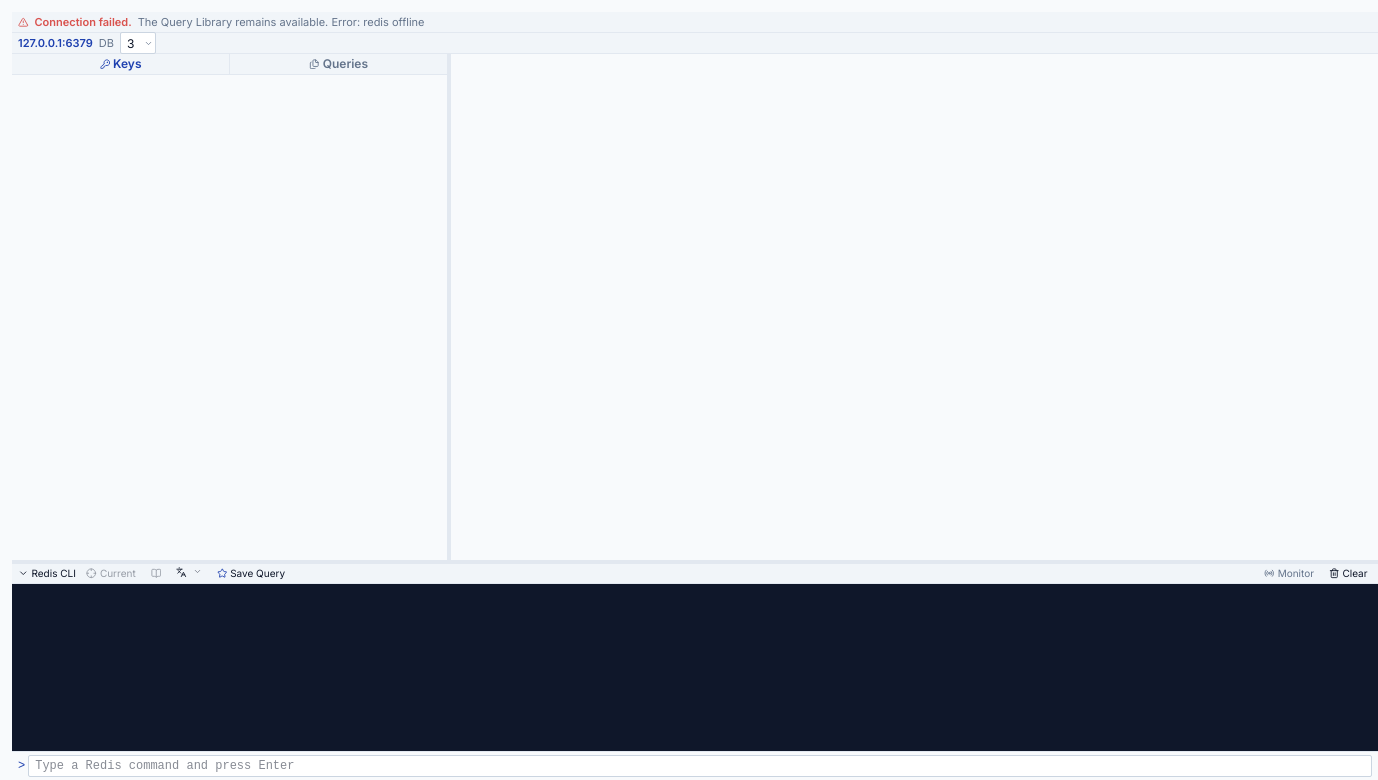
RedisClientTab query library › keeps the query library available after a Redis connection failure
The image size is (1378, 780).
Check: the element with test id "redis-connection-error-banner" shows "redis offline", box x1=331 y1=15 x2=424 y2=29
Click the button "Queries".
click(338, 64)  # box x1=229 y1=54 x2=447 y2=74
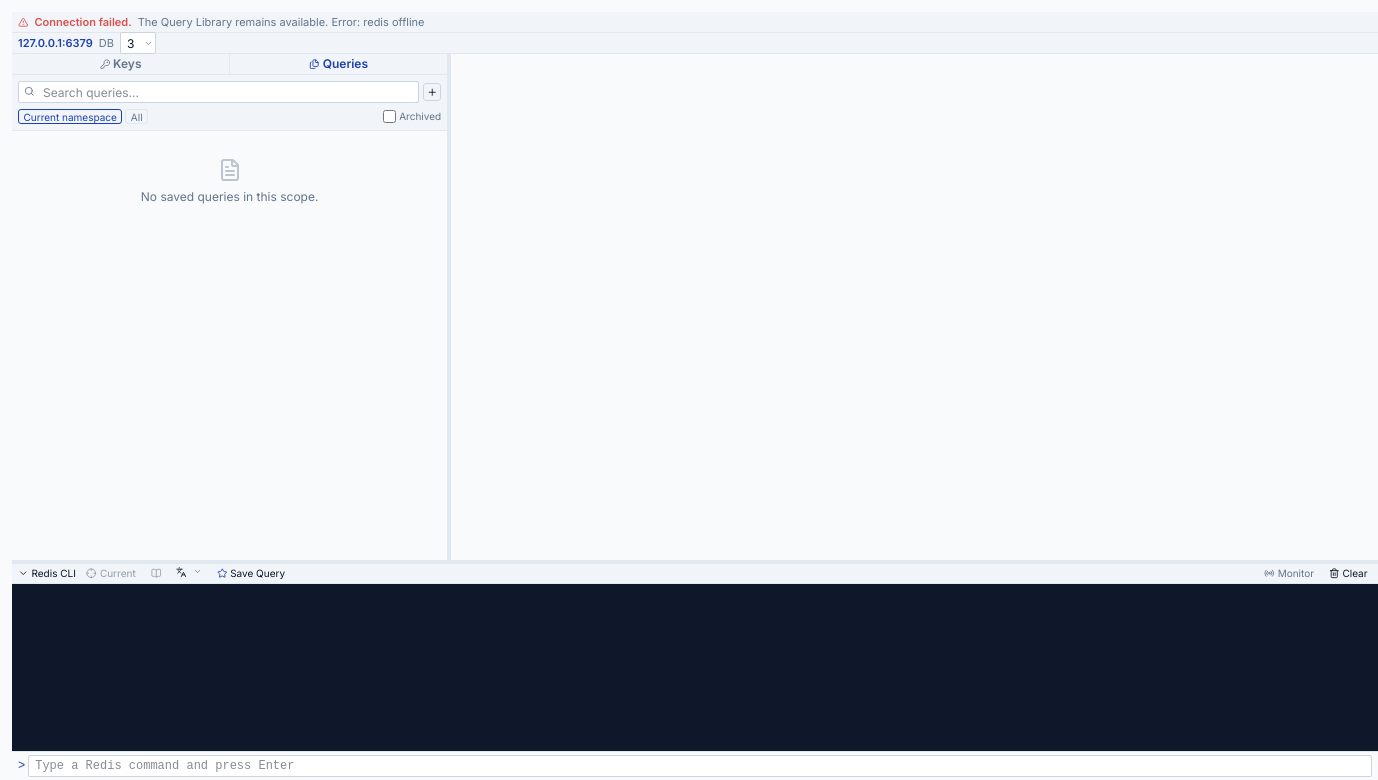
Check: the element with test id "query-library-panel" is shown, box x1=12 y1=75 x2=447 y2=560
